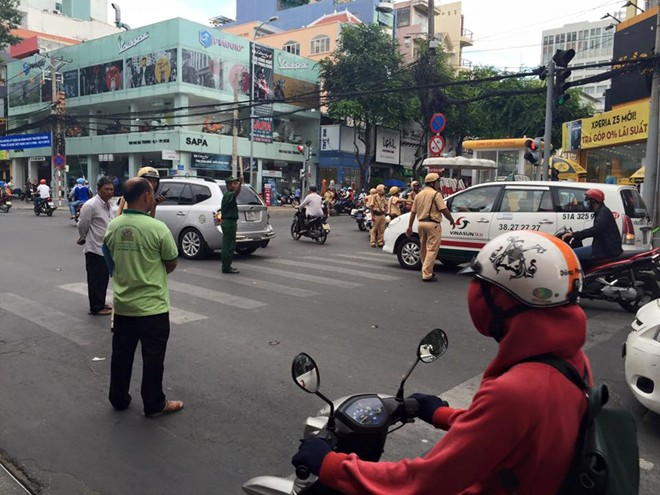police: (403, 175, 462, 285)
